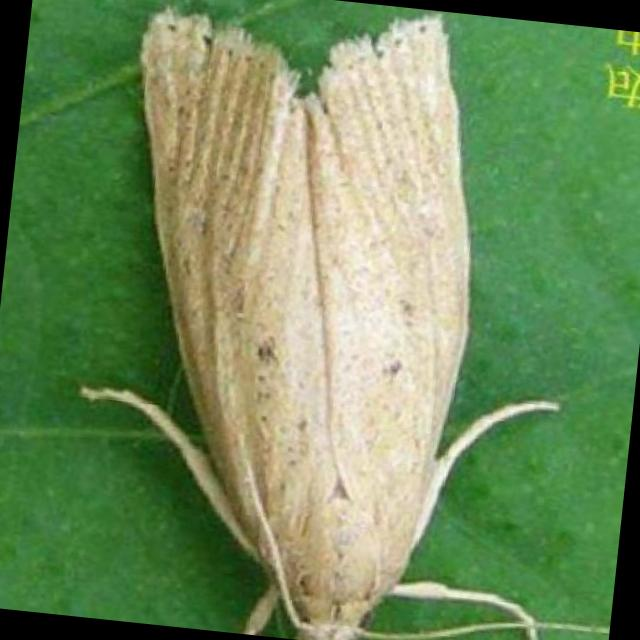stem-borer: (68, 0, 540, 640)
